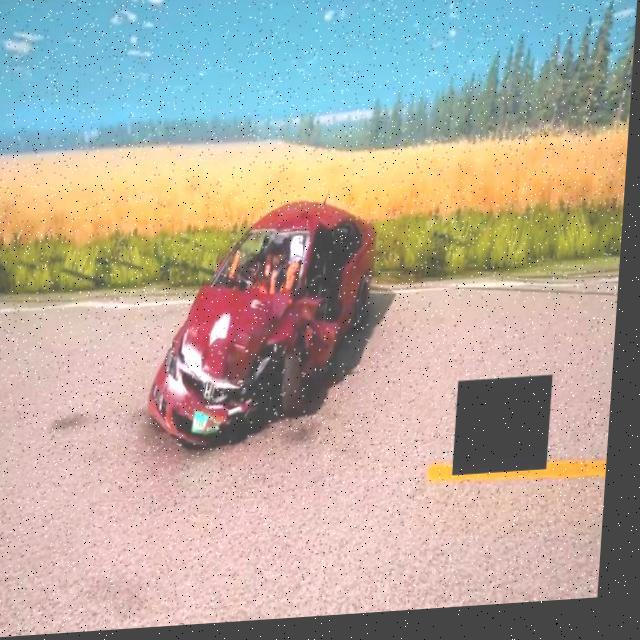single accident: (117, 159, 395, 456)
